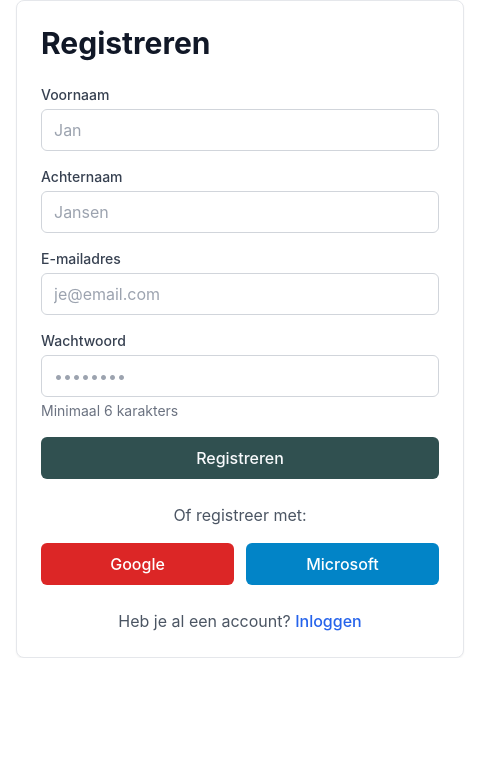
Scenario: RegisterForm OAuth Integration › should show user-friendly error when Google provider is not enabled
This screenshot has width=481, height=768.
// Click the Google registration button
Click the button "Google". click: x=138, y=564
box: [41,543,234,585]
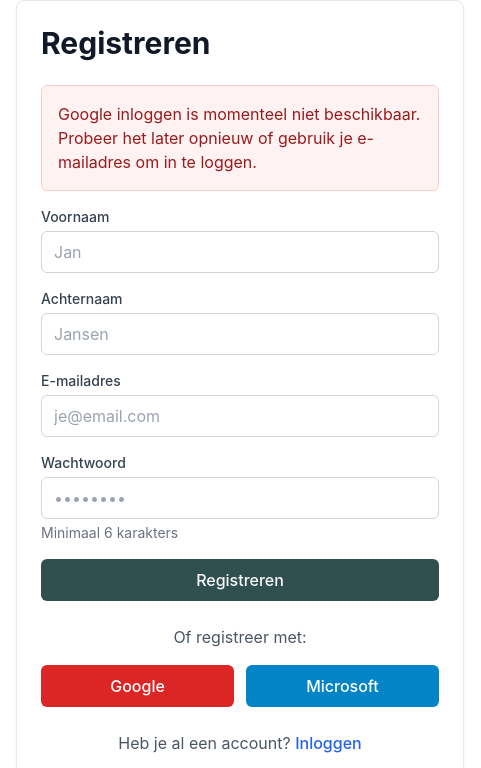
expect the text "gebruik je e-mailadres om in te loggen" is shown: met, box [58,104,420,172]
